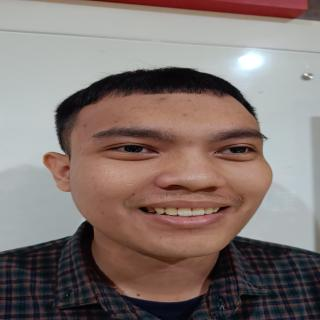Senang: (57, 89, 289, 265)
